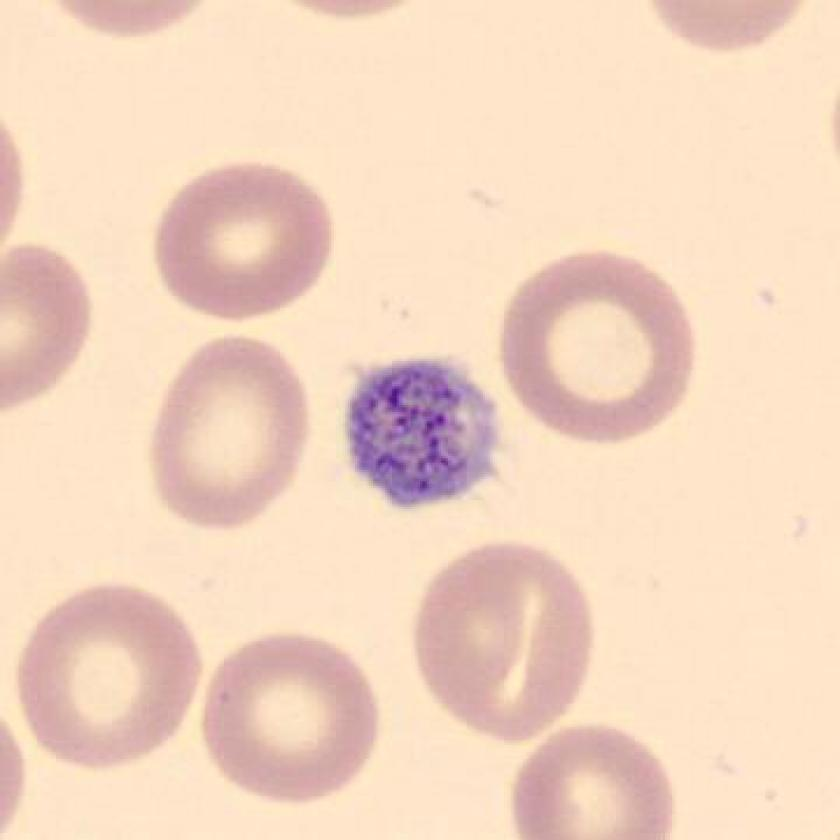platelets: (339, 348, 505, 519)
